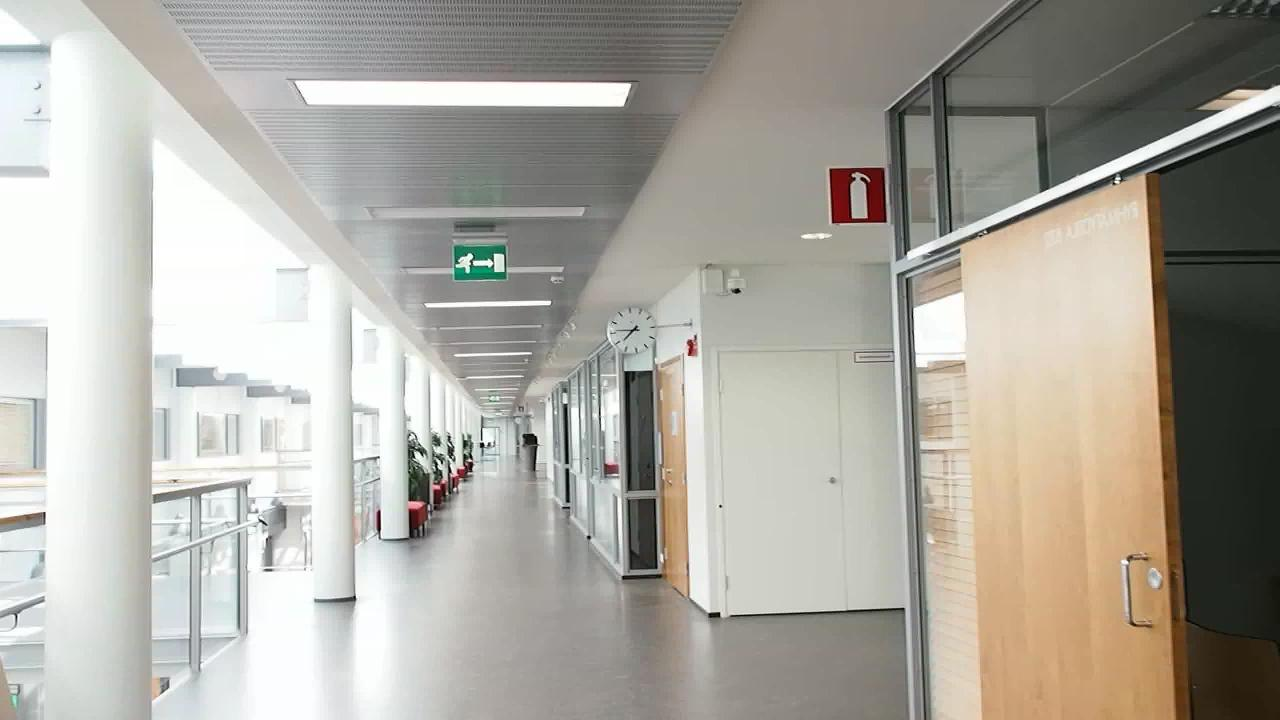clock: (603, 300, 662, 356)
exit: (446, 241, 510, 285)
fireextinguisher: (833, 162, 887, 225)
